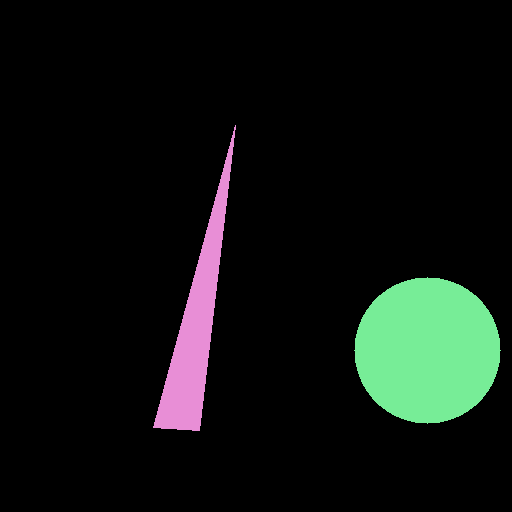circle: (354, 277, 500, 423)
triangle: (153, 125, 235, 430)
